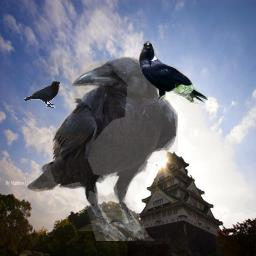Crow: (27, 56, 178, 241), (138, 41, 209, 105), (23, 81, 60, 108)
